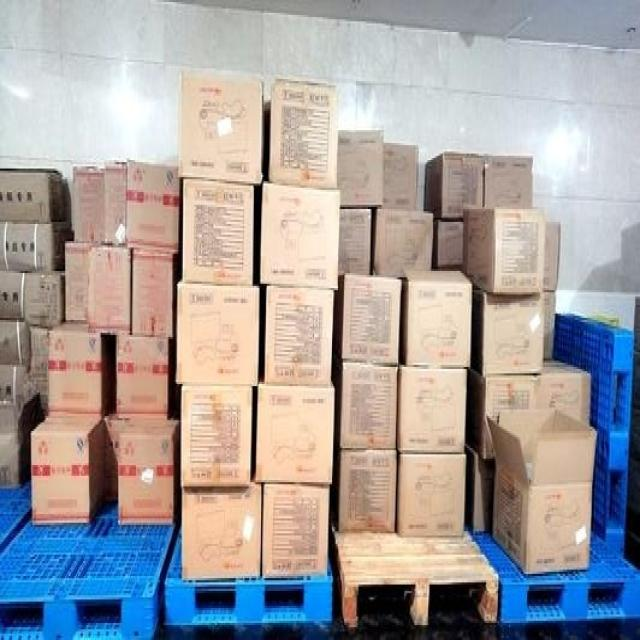box: (488, 407, 597, 574), (464, 358, 591, 459), (178, 70, 262, 181), (103, 410, 180, 525), (177, 279, 259, 384), (31, 412, 106, 525), (260, 183, 340, 288), (180, 482, 263, 582), (253, 384, 334, 486), (262, 79, 337, 188), (180, 386, 256, 489), (182, 179, 254, 286), (401, 269, 472, 369), (263, 284, 333, 384), (464, 209, 544, 294), (261, 484, 330, 576), (48, 316, 114, 412), (397, 365, 467, 454), (331, 358, 399, 448), (473, 290, 544, 375), (396, 452, 467, 535), (333, 277, 401, 363), (330, 448, 397, 531), (112, 335, 174, 418), (126, 162, 183, 250), (0, 363, 40, 486), (131, 245, 183, 337), (373, 205, 433, 277), (425, 151, 485, 222), (0, 166, 71, 222), (89, 241, 131, 335), (0, 269, 66, 326), (337, 130, 384, 209), (0, 222, 73, 271), (65, 239, 103, 320), (484, 154, 533, 209), (339, 207, 374, 277), (466, 446, 494, 531), (73, 169, 105, 241), (383, 145, 419, 209), (28, 324, 51, 416), (103, 164, 128, 243), (433, 218, 466, 267), (541, 222, 562, 292), (0, 318, 29, 365), (543, 292, 556, 356)
